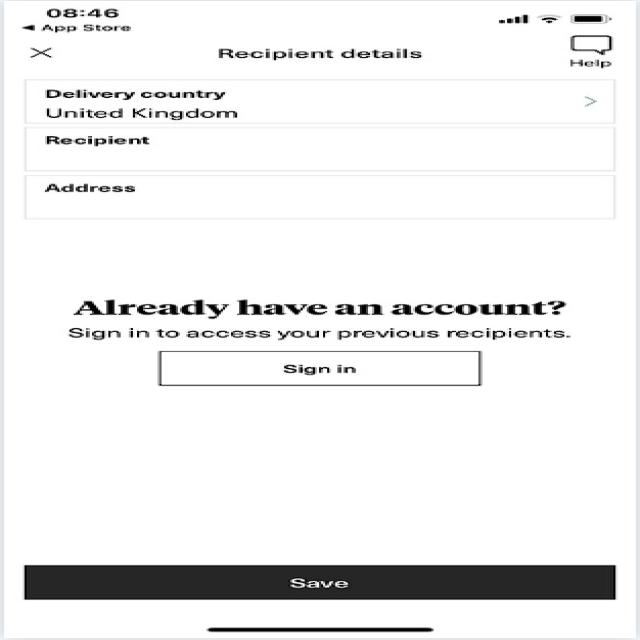button: (6, 556, 632, 611), (24, 346, 619, 390)
icon button: (553, 29, 624, 67), (18, 34, 71, 67)
input: (9, 170, 632, 224), (12, 71, 629, 123), (12, 124, 634, 172)
spacer: (121, 400, 528, 556), (141, 230, 517, 278)
text: (21, 284, 610, 340), (199, 40, 437, 66)
